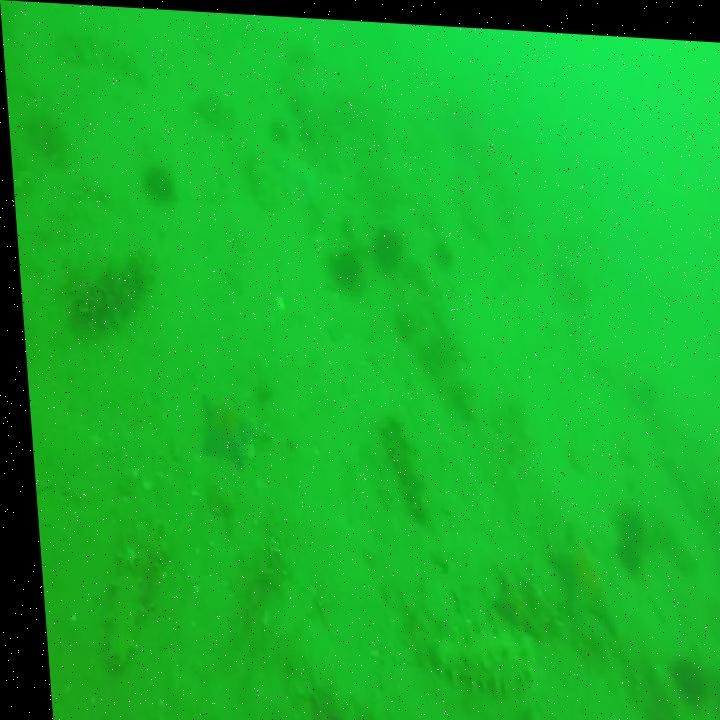echinus: (659, 644, 698, 696), (140, 159, 173, 202), (326, 242, 360, 281)
holothurian: (87, 493, 165, 679), (418, 608, 533, 692), (61, 248, 159, 325), (59, 19, 144, 84), (377, 411, 420, 514)
starfish: (536, 507, 607, 626), (479, 536, 546, 625), (193, 387, 251, 464), (265, 137, 323, 196)
